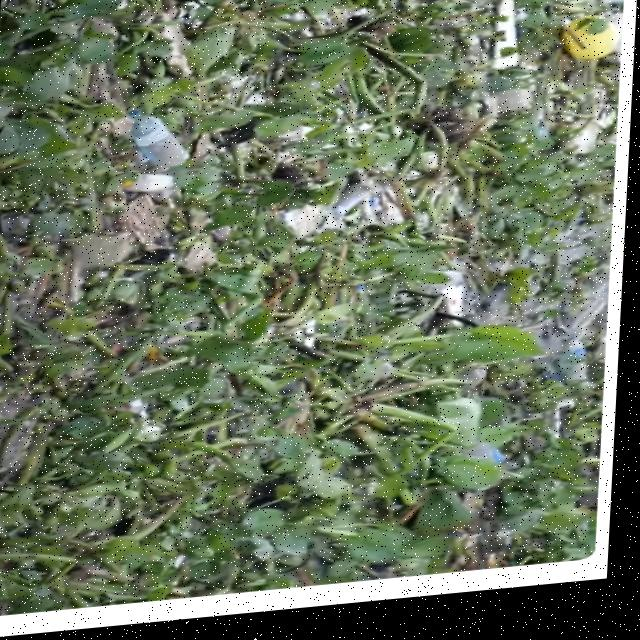litter: (110, 97, 199, 177), (553, 338, 604, 394)
